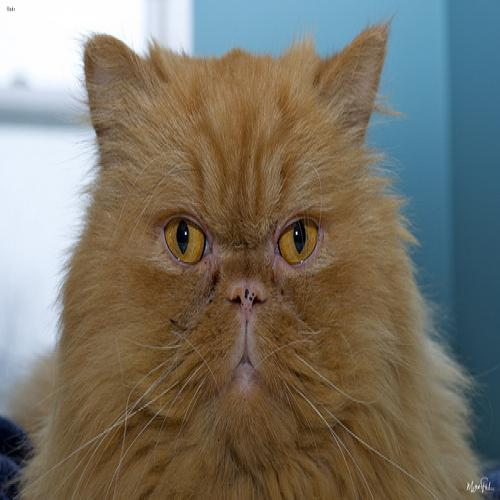persian: (74, 16, 401, 464)
